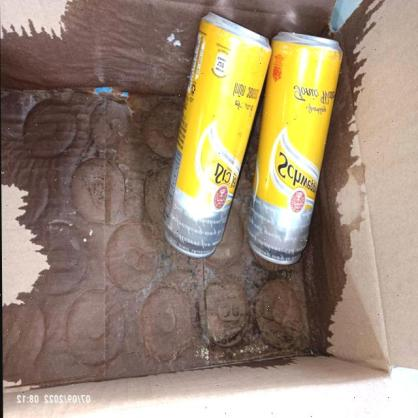can: (161, 13, 271, 258), (247, 31, 344, 266)
